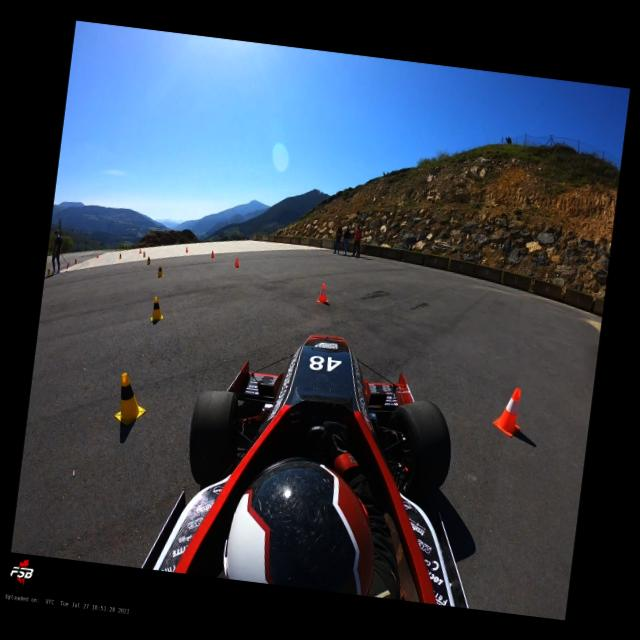orange_cone: (492, 384, 524, 438), (316, 282, 331, 304), (233, 255, 240, 267), (210, 250, 215, 258), (185, 246, 188, 252), (96, 254, 98, 258), (139, 249, 141, 253)
yellow_cone: (114, 372, 149, 426), (150, 296, 165, 322), (157, 264, 165, 277), (146, 255, 152, 265), (118, 252, 122, 259), (142, 250, 146, 256), (46, 270, 50, 276), (74, 258, 76, 262)
